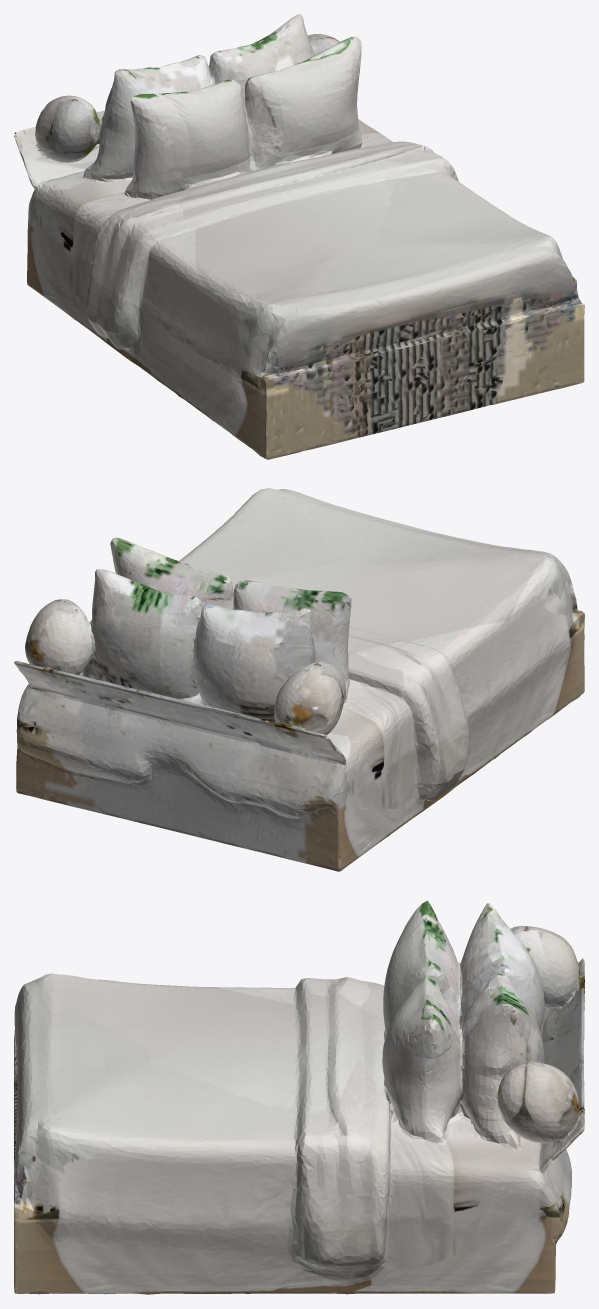
File: bedroom-1-00-bed.glb
3 renders of one model, top to bottom at view 1: azimuth 30°, elevation 25°; view 2: azimuth 150°, elevation 25°; view 3: azimuth 270°, elevation 25°, orthographic. The views are drawn at different scales.
Visible parts, largest first — view 1: geometry_0; view 2: geometry_0; view 3: geometry_0.
Boxes of the visible parts, x1=… form: geometry_0: x1=14, y1=14, x2=584, y2=459; geometry_0: x1=14, y1=488, x2=584, y2=871; geometry_0: x1=14, y1=900, x2=584, y2=1294.
Bounding box in the file's own units: 1.53 × 0.8959 × 1.85.
Materials: 1 (1 with a texture image).
